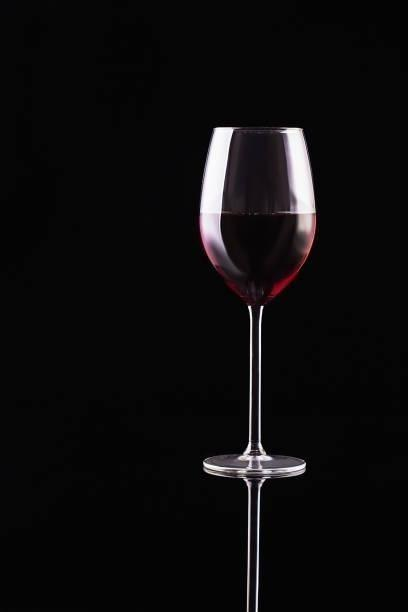glass-wine: (196, 124, 317, 479)
